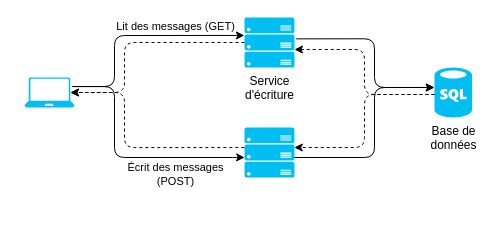
Some shapes in this 494 by 230 pixel diagram are drawn without their labels. Each missing label, with the centre of its shape:
Client HTTP: point 49,92
Service de lecture: point 269,152
